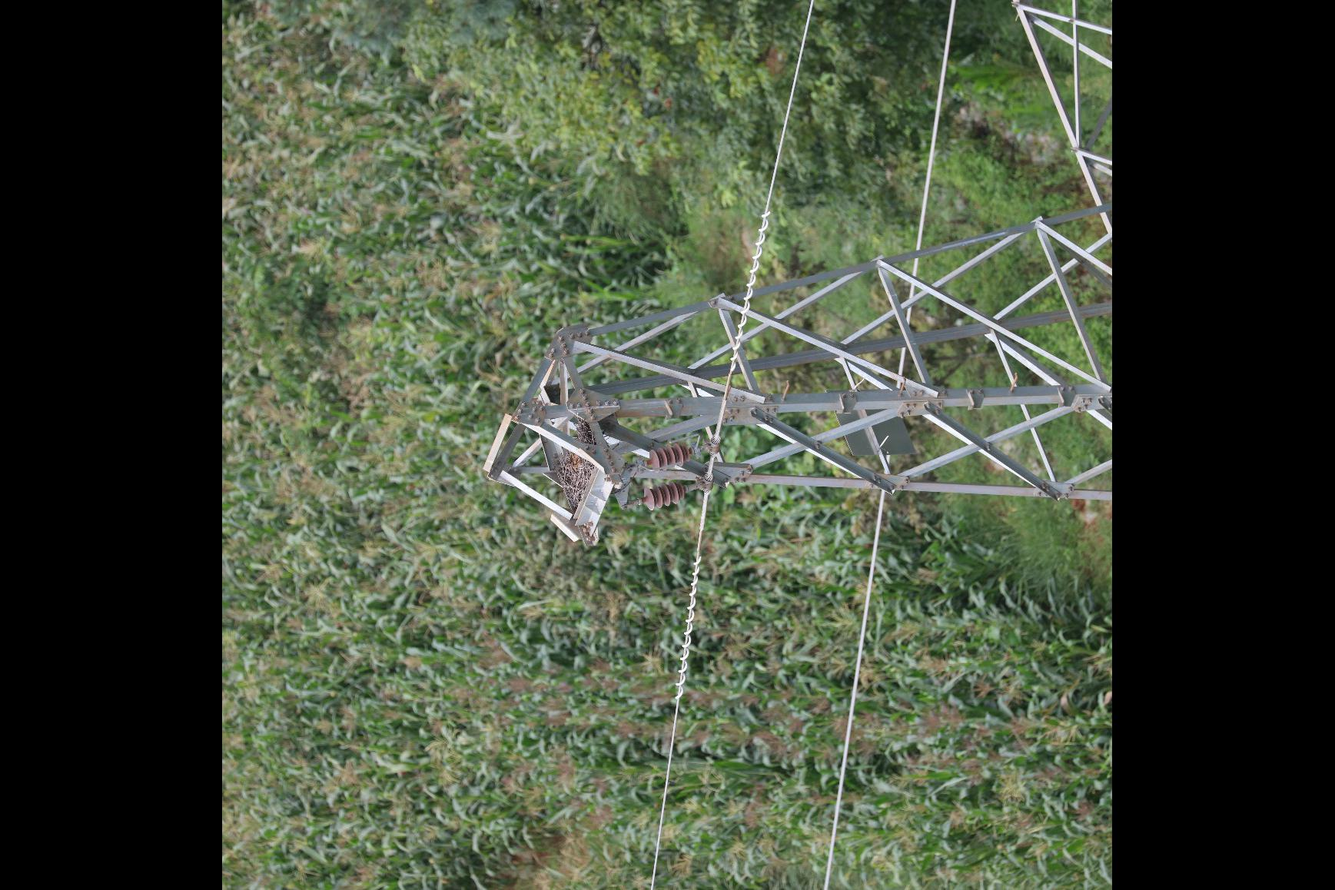nest: (549, 451, 596, 507)
